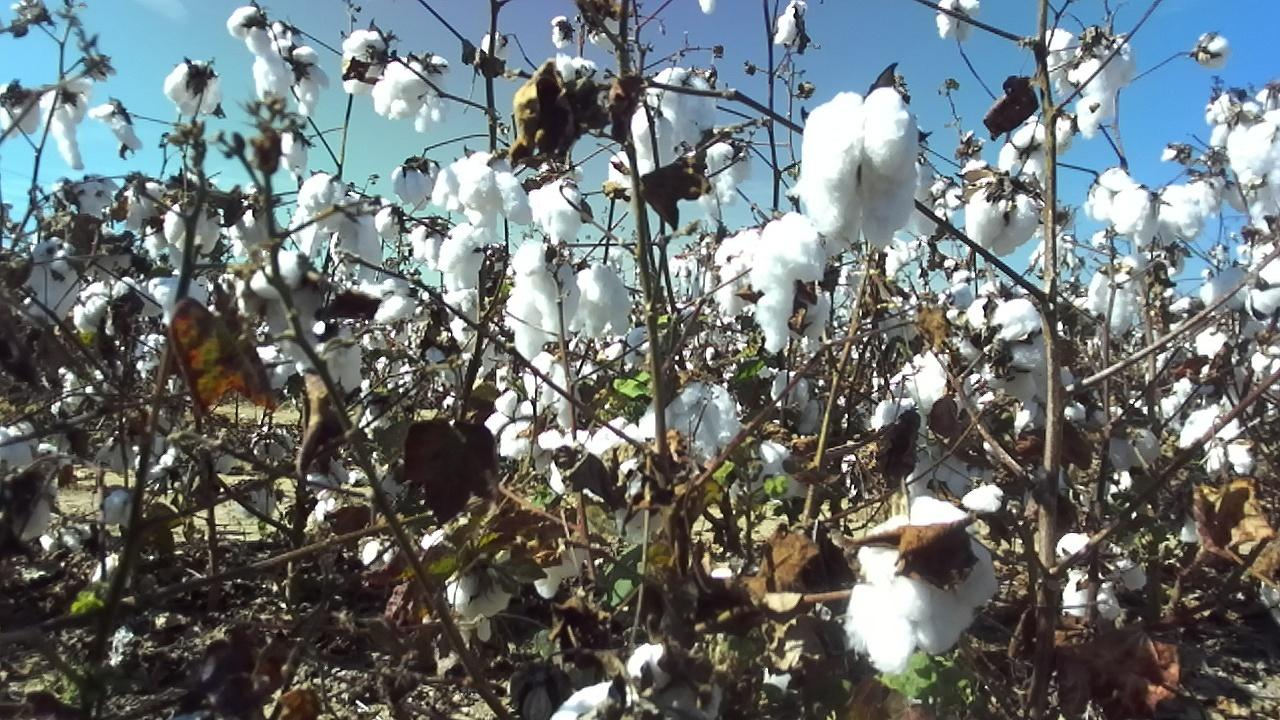cotton_ready: (845, 496, 999, 676), (797, 89, 920, 251), (864, 351, 1004, 493), (536, 418, 669, 546), (547, 641, 674, 720), (504, 237, 581, 361), (967, 295, 1051, 405), (1058, 533, 1146, 629), (432, 149, 536, 228), (0, 422, 66, 540), (641, 385, 740, 459), (1066, 33, 1133, 141), (228, 5, 295, 104), (965, 173, 1040, 256), (730, 440, 815, 513), (273, 322, 366, 388), (27, 229, 92, 321), (750, 213, 826, 291), (498, 351, 572, 431), (73, 276, 165, 338), (1088, 251, 1150, 337), (646, 69, 717, 144), (235, 248, 308, 318), (527, 161, 587, 244), (756, 288, 832, 352), (684, 141, 755, 207), (38, 80, 87, 168), (577, 261, 633, 336), (335, 196, 385, 280), (370, 56, 435, 120), (714, 228, 760, 318), (485, 392, 544, 462), (275, 40, 333, 111), (1156, 180, 1217, 247), (442, 565, 511, 621), (437, 221, 491, 291), (1228, 111, 1280, 180), (296, 172, 358, 229), (149, 274, 213, 329), (163, 198, 222, 257), (534, 540, 591, 600), (340, 28, 388, 98), (630, 108, 678, 177), (163, 61, 219, 118), (998, 121, 1052, 178), (1110, 185, 1163, 240), (945, 281, 1011, 325), (1085, 166, 1136, 221), (1180, 405, 1240, 451), (389, 161, 444, 211), (358, 277, 417, 322), (609, 151, 654, 208), (1244, 254, 1280, 324), (87, 103, 139, 151), (0, 84, 43, 141), (1202, 267, 1254, 314), (1029, 106, 1077, 156), (446, 288, 483, 349), (124, 181, 167, 230), (72, 172, 116, 219), (937, 0, 981, 40), (772, 0, 808, 48), (406, 226, 441, 273)
